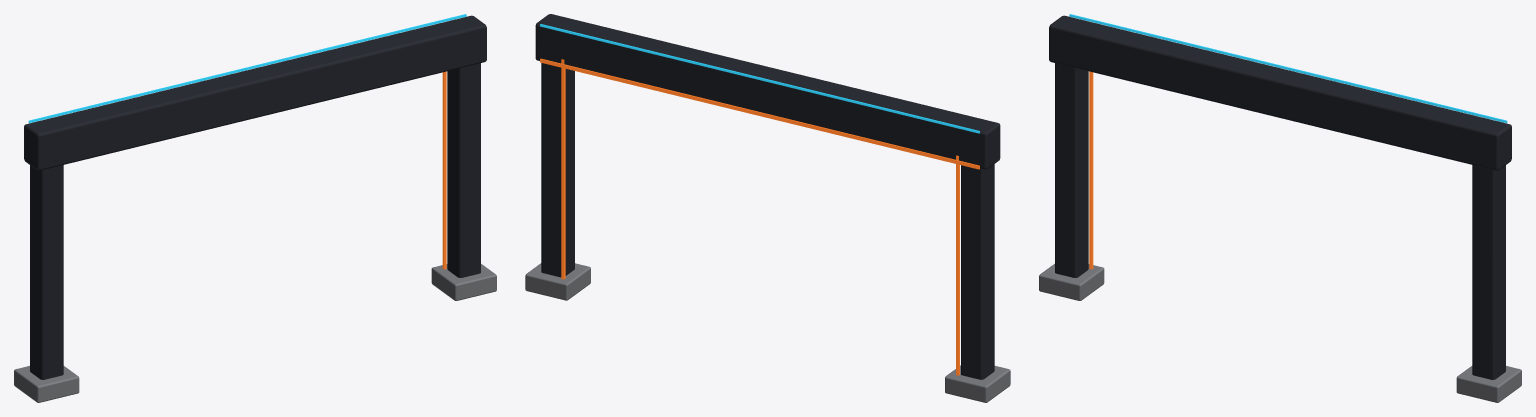
File: prop_arch.glb
3 views of the same model, side by side, from view 1: azimuth 30°, elevation 25°; view 2: azimuth 150°, elevation 25°; view 3: azimuth 330°, elevation 25° (orthographic).
Visible parts, largest first — view 1: RouteArch; view 2: RouteArch; view 3: RouteArch.
Boxes of the visible parts, bbox=[...] form: RouteArch: bbox=[14, 14, 496, 402]; RouteArch: bbox=[525, 14, 1010, 402]; RouteArch: bbox=[1039, 14, 1521, 402].
Size of the model in its own units: 14.1 by 7.78 by 1.3.
